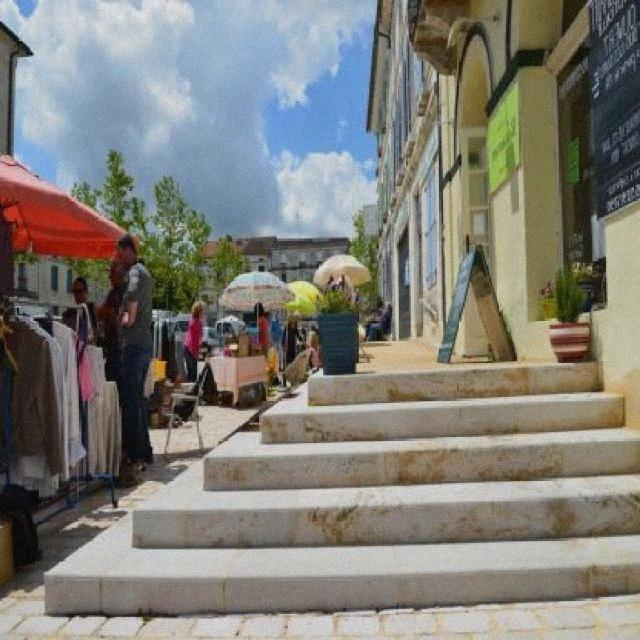stair: (45, 364, 640, 615)
